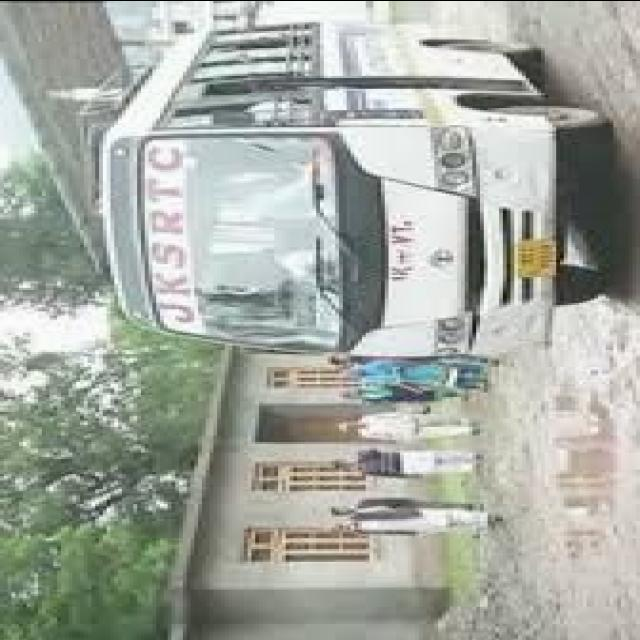bus: (74, 1, 619, 380)
